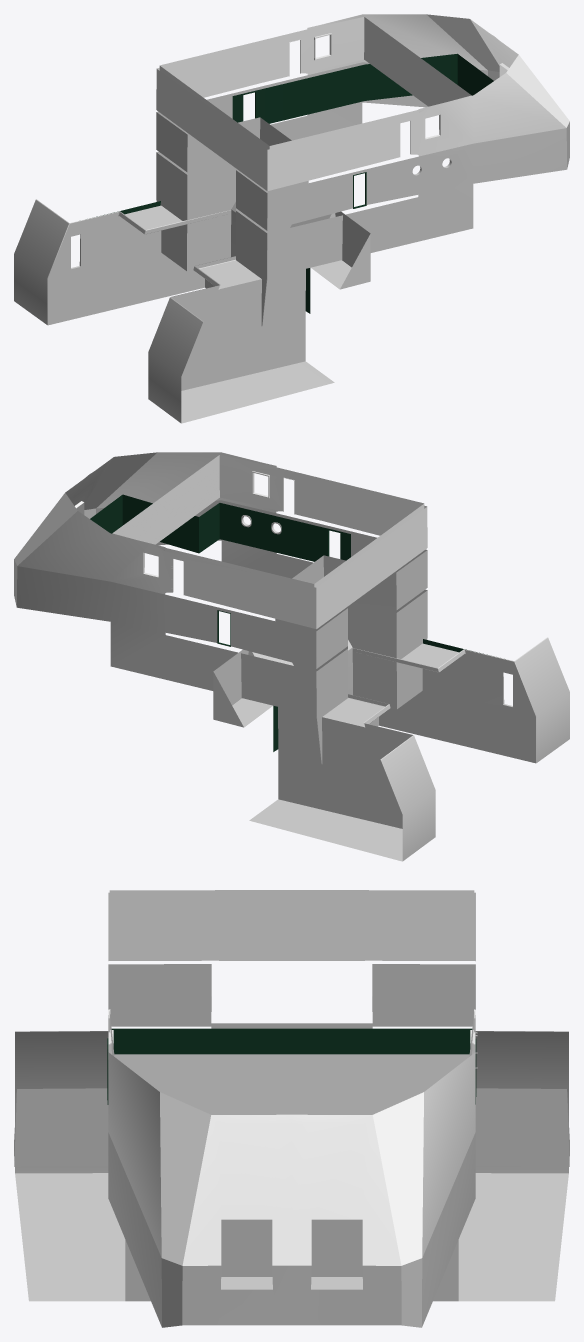
File: Ship wall.fbx
The picture shows the model from 3 angles, top to bottom: view 1: azimuth 30°, elevation 25°; view 2: azimuth 150°, elevation 25°; view 3: azimuth 270°, elevation 25°; orthographic projection. The views are drawn at different scales.
Visible parts, largest first — view 1: Control tower_White_0.210, Floor_White_0, Control tower_White_0.005, Floor_green_deck_0.002; view 2: Control tower_White_0.210, Floor_White_0, Control tower_White_0.005, Floor_green_deck_0.002; view 3: Control tower_White_0.210, Floor_White_0, Control tower_White_0.005, Floor_green_deck_0.002.
Part boxes in pixels (x1,y1,x2,y2): Control tower_White_0.210: [156, 14, 569, 325]; Floor_White_0: [14, 199, 370, 423]; Control tower_White_0.005: [159, 17, 471, 149]; Floor_green_deck_0.002: [232, 53, 493, 208]; Control tower_White_0.210: [14, 452, 427, 763]; Floor_White_0: [213, 637, 569, 861]; Control tower_White_0.005: [112, 455, 424, 587]; Floor_green_deck_0.002: [90, 494, 350, 646]; Control tower_White_0.210: [108, 892, 475, 1327]; Floor_White_0: [14, 1031, 569, 1301]; Control tower_White_0.005: [109, 890, 474, 1114]; Floor_green_deck_0.002: [107, 1028, 476, 1104].
Bounding box in the file's own units: 2694 × 1348 × 1786.
